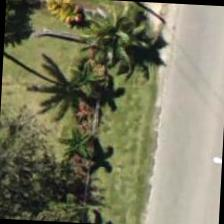Kelapa_Sawit: (71, 0, 166, 81)
